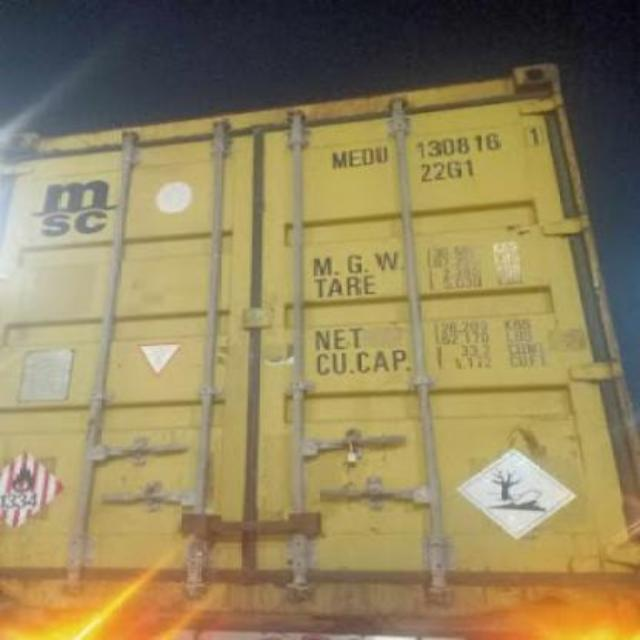0: (440, 132, 456, 156)
1: (522, 124, 544, 146), (470, 128, 486, 156), (416, 132, 426, 158)
3: (426, 132, 442, 158)
6: (486, 128, 499, 154)
8: (456, 133, 469, 153)
D: (361, 140, 374, 167)
E: (346, 147, 359, 173)
M: (328, 147, 348, 171)
U: (374, 142, 390, 166)
